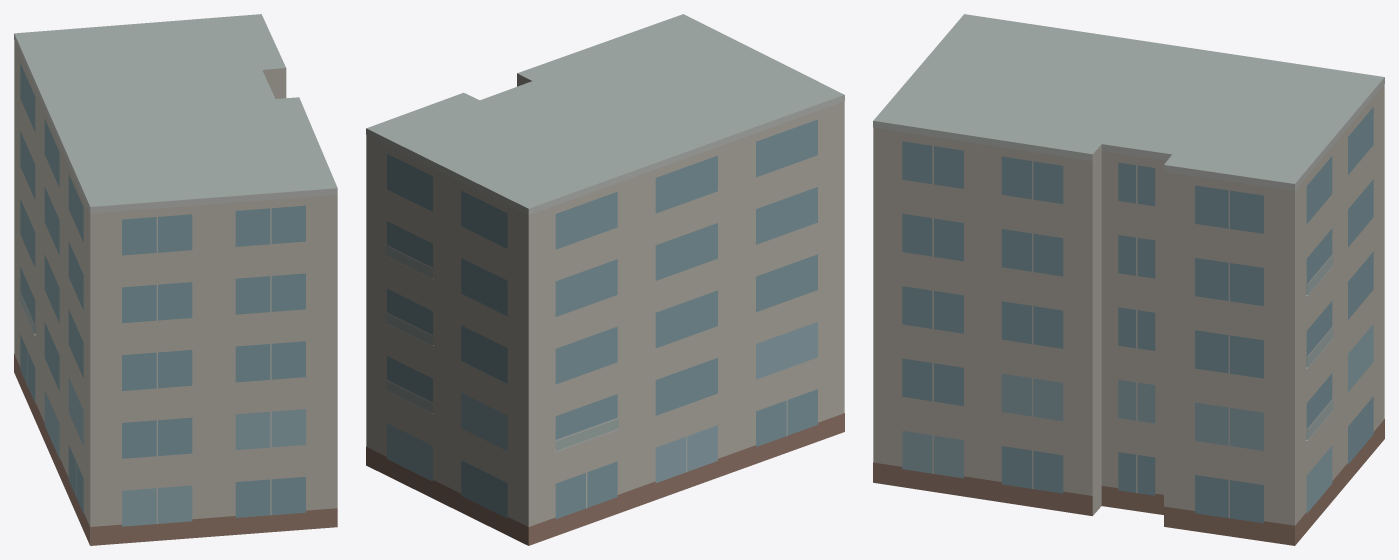
The model's file is survey-upis-32888487.glb.
3 views of the same model, side by side, from view 1: azimuth 30°, elevation 25°; view 2: azimuth 150°, elevation 25°; view 3: azimuth 270°, elevation 25° (orthographic). The views are drawn at different scales.
Parts seen in each view (by area): view 1: survey-upis-32888487.tmp; view 2: survey-upis-32888487.tmp; view 3: survey-upis-32888487.tmp.
Part boxes in pixels (x1=…): survey-upis-32888487.tmp: x1=14, y1=14, x2=337, y2=545; survey-upis-32888487.tmp: x1=366, y1=14, x2=844, y2=545; survey-upis-32888487.tmp: x1=873, y1=14, x2=1384, y2=545.
Size of the model in its own units: 12.91 by 12.8 by 16.41.
